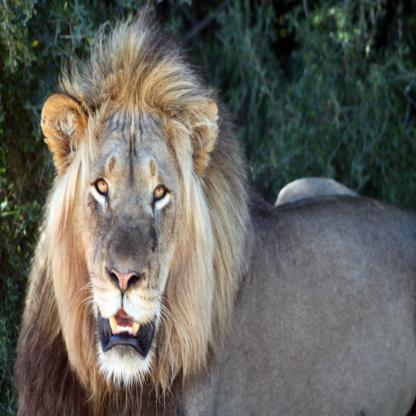lion: (38, 86, 211, 382)
